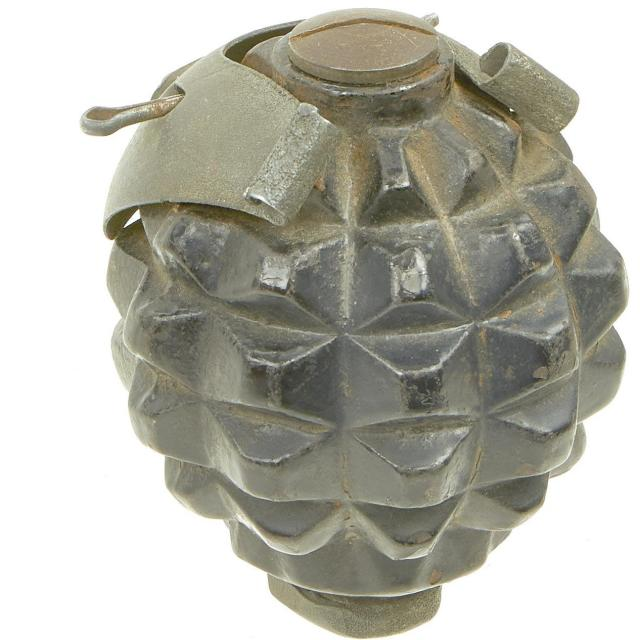grenade: (80, 8, 630, 640)
